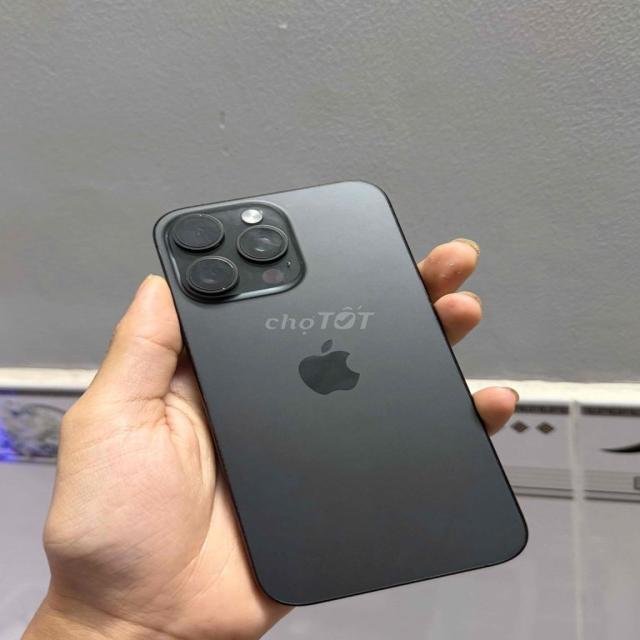gen_15: (130, 168, 545, 616)
